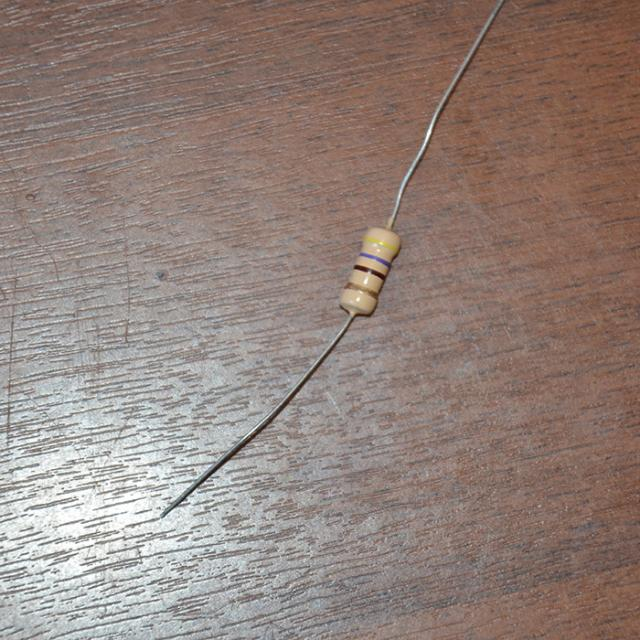brown: (355, 262, 387, 279)
gold: (346, 281, 379, 296)
resistor: (315, 209, 422, 340)
violet: (357, 251, 390, 266)
yellow: (363, 237, 398, 251)
